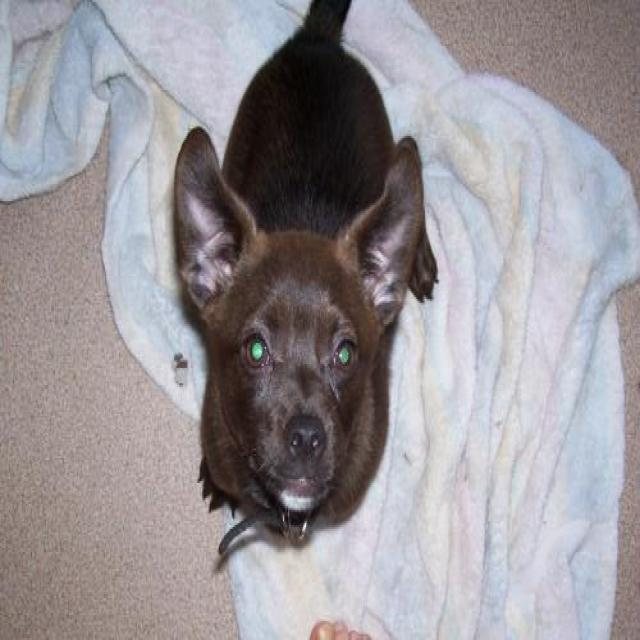Dogs: (170, 0, 439, 569)
